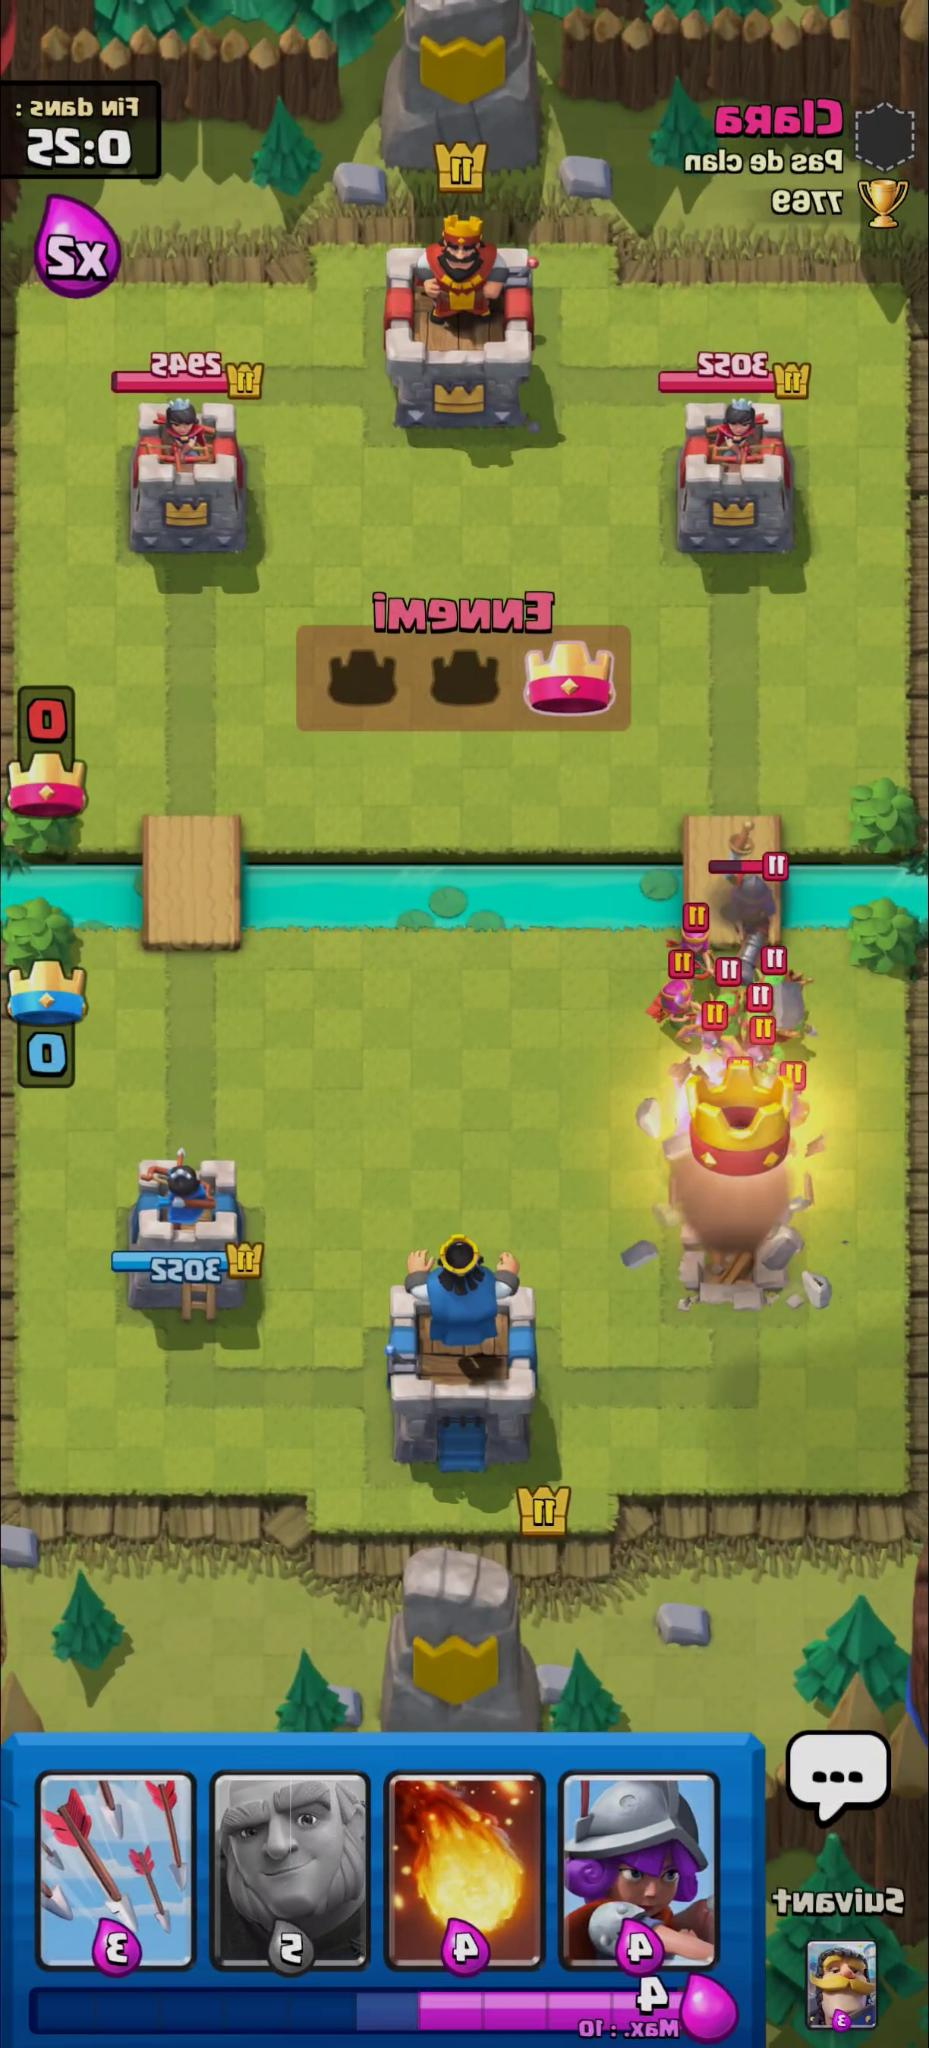archere: (648, 981, 704, 1050), (665, 927, 721, 982)
bat: (676, 1027, 734, 1059), (730, 1042, 775, 1066)
gobelin_lances: (712, 985, 741, 1031)
mousquetaire: (719, 870, 774, 986)
